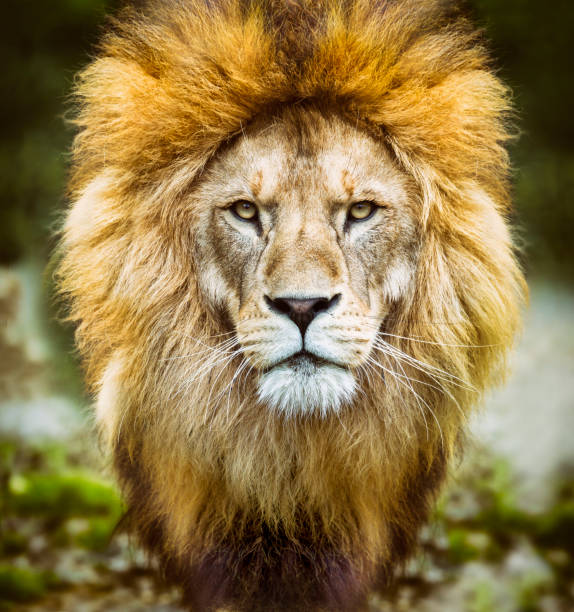lion: (37, 4, 539, 612)
